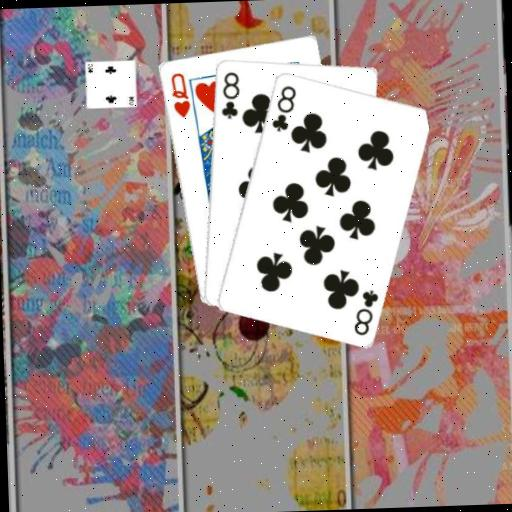8C: (267, 81, 299, 133), (349, 285, 381, 337), (217, 68, 242, 121)
QH: (167, 68, 192, 119)
